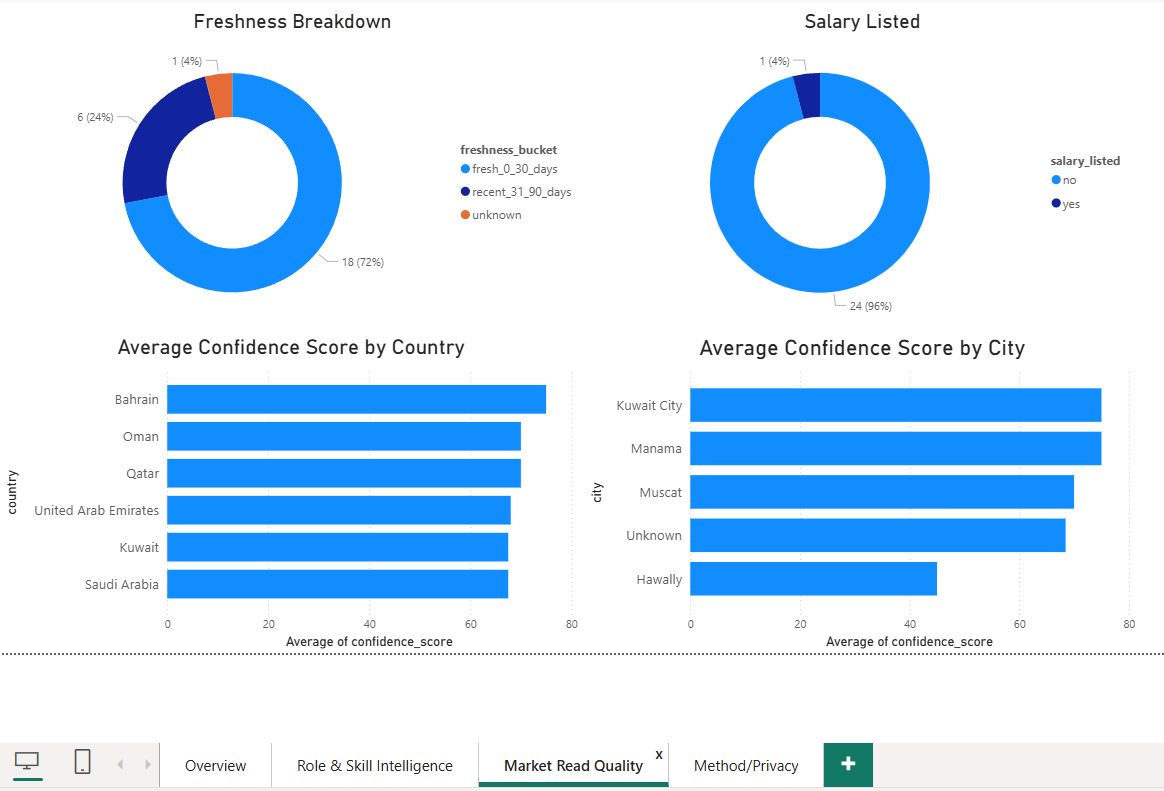

This screenshot's page, from the dashboard's own definition file:
{"tool":"powerbi","page":{"name":"Market Read Quality","canvas":[1280,720],"ordinal":2},"visuals":[{"type":"donutChart","title":"Freshness Breakdown","fields":{"Category":["public-sample-may29.freshness_bucket"],"Y":["CountNonNull(public-sample-may29.sample_row)"]},"box":[0,13.7,642.2,356.8],"z":0},{"type":"donutChart","title":"Salary Listed","fields":{"Category":["public-sample-may29.salary_listed"],"Y":["CountNonNull(public-sample-may29.sample_row)"]},"box":[642.2,13.7,609.3,356.8],"z":1},{"type":"clusteredBarChart","title":"Average Confidence Score by Country","fields":{"Category":["public-sample-may29.country"],"Y":["Avg(public-sample-may29.confidence_score)"]},"box":[0,370.5,639.5,349.9],"z":2},{"type":"clusteredBarChart","title":"Average Confidence Score by City","fields":{"Category":["public-sample-may29.city"],"Y":["Avg(public-sample-may29.confidence_score)"]},"box":[642.2,370.5,609.3,349.9],"z":3}]}

Visuals, with their boxes on the page's 1280x720 design canvas (x1, y1, x2, y2). These are canvas units, not pixel positions in the 1164x791 screenshot, which may show the page scaled, cropped or inside an application window:
"Freshness Breakdown" donutChart: locate(0, 14, 642, 370)
"Salary Listed" donutChart: locate(642, 14, 1252, 370)
"Average Confidence Score by Country" clusteredBarChart: locate(0, 370, 640, 720)
"Average Confidence Score by City" clusteredBarChart: locate(642, 370, 1252, 720)
